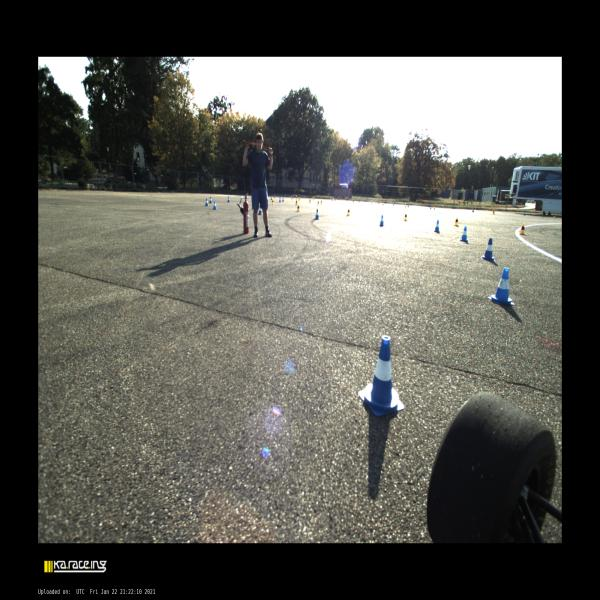blue_cone: (358, 336, 404, 416), (488, 268, 515, 305), (482, 238, 495, 259), (460, 226, 468, 241), (434, 220, 440, 232), (314, 209, 320, 220), (212, 200, 218, 210), (379, 215, 384, 226), (204, 199, 209, 206), (209, 197, 212, 204), (227, 196, 230, 202), (523, 210, 526, 215), (430, 205, 432, 210), (279, 197, 281, 202), (282, 197, 284, 202), (472, 208, 474, 212)
yellow_cone: (519, 224, 525, 234), (454, 217, 459, 226), (296, 204, 300, 212), (346, 209, 350, 216), (404, 213, 407, 221), (553, 213, 556, 219), (433, 206, 436, 210), (318, 200, 320, 206), (320, 200, 323, 204), (298, 196, 300, 202), (272, 199, 274, 205), (493, 210, 495, 215), (295, 200, 297, 205), (309, 199, 311, 203), (382, 203, 384, 206), (405, 205, 406, 208)
